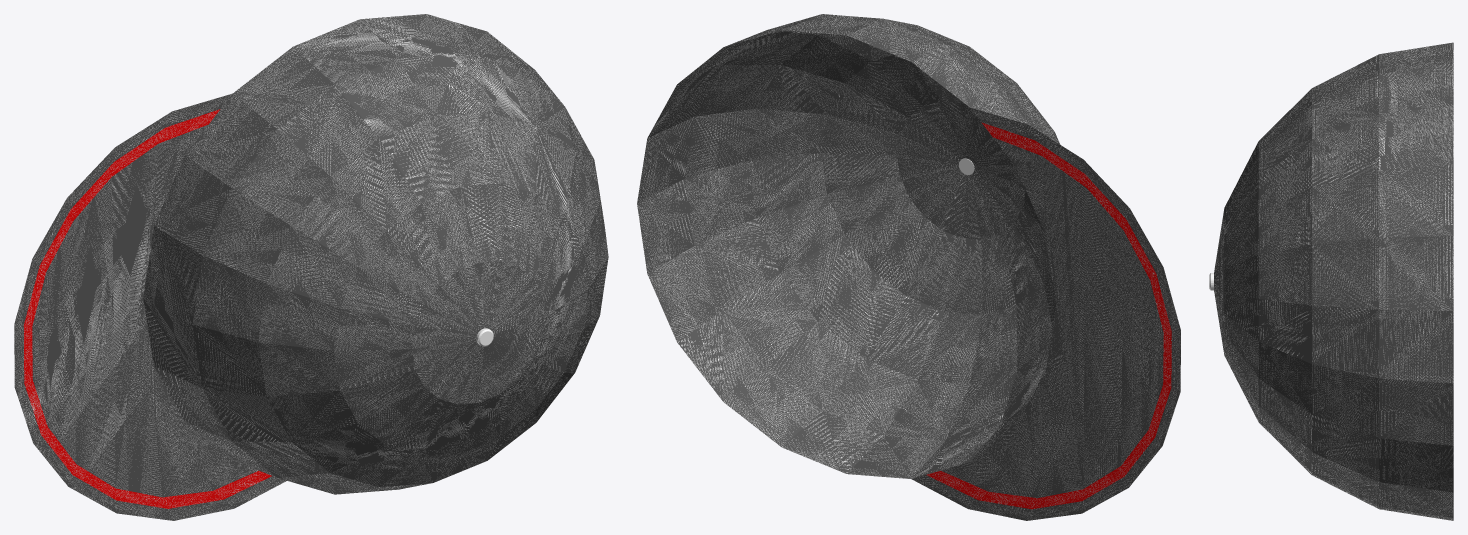
3 views of the same model, side by side, from view 1: azimuth 30°, elevation 25°; view 2: azimuth 150°, elevation 25°; view 3: azimuth 270°, elevation 25° (orthographic). The views are drawn at different scales.
Parts seen in each view (by area): view 1: jelosoe standard cap; view 2: jelosoe standard cap; view 3: jelosoe standard cap.
Boxes of the visible parts, x1,y1,x2,y2 form: jelosoe standard cap: (14,14,608,520); jelosoe standard cap: (637,14,1180,520); jelosoe standard cap: (1209,42,1453,520).
Bounding box in the file's own units: 198 × 155 × 77.37.
